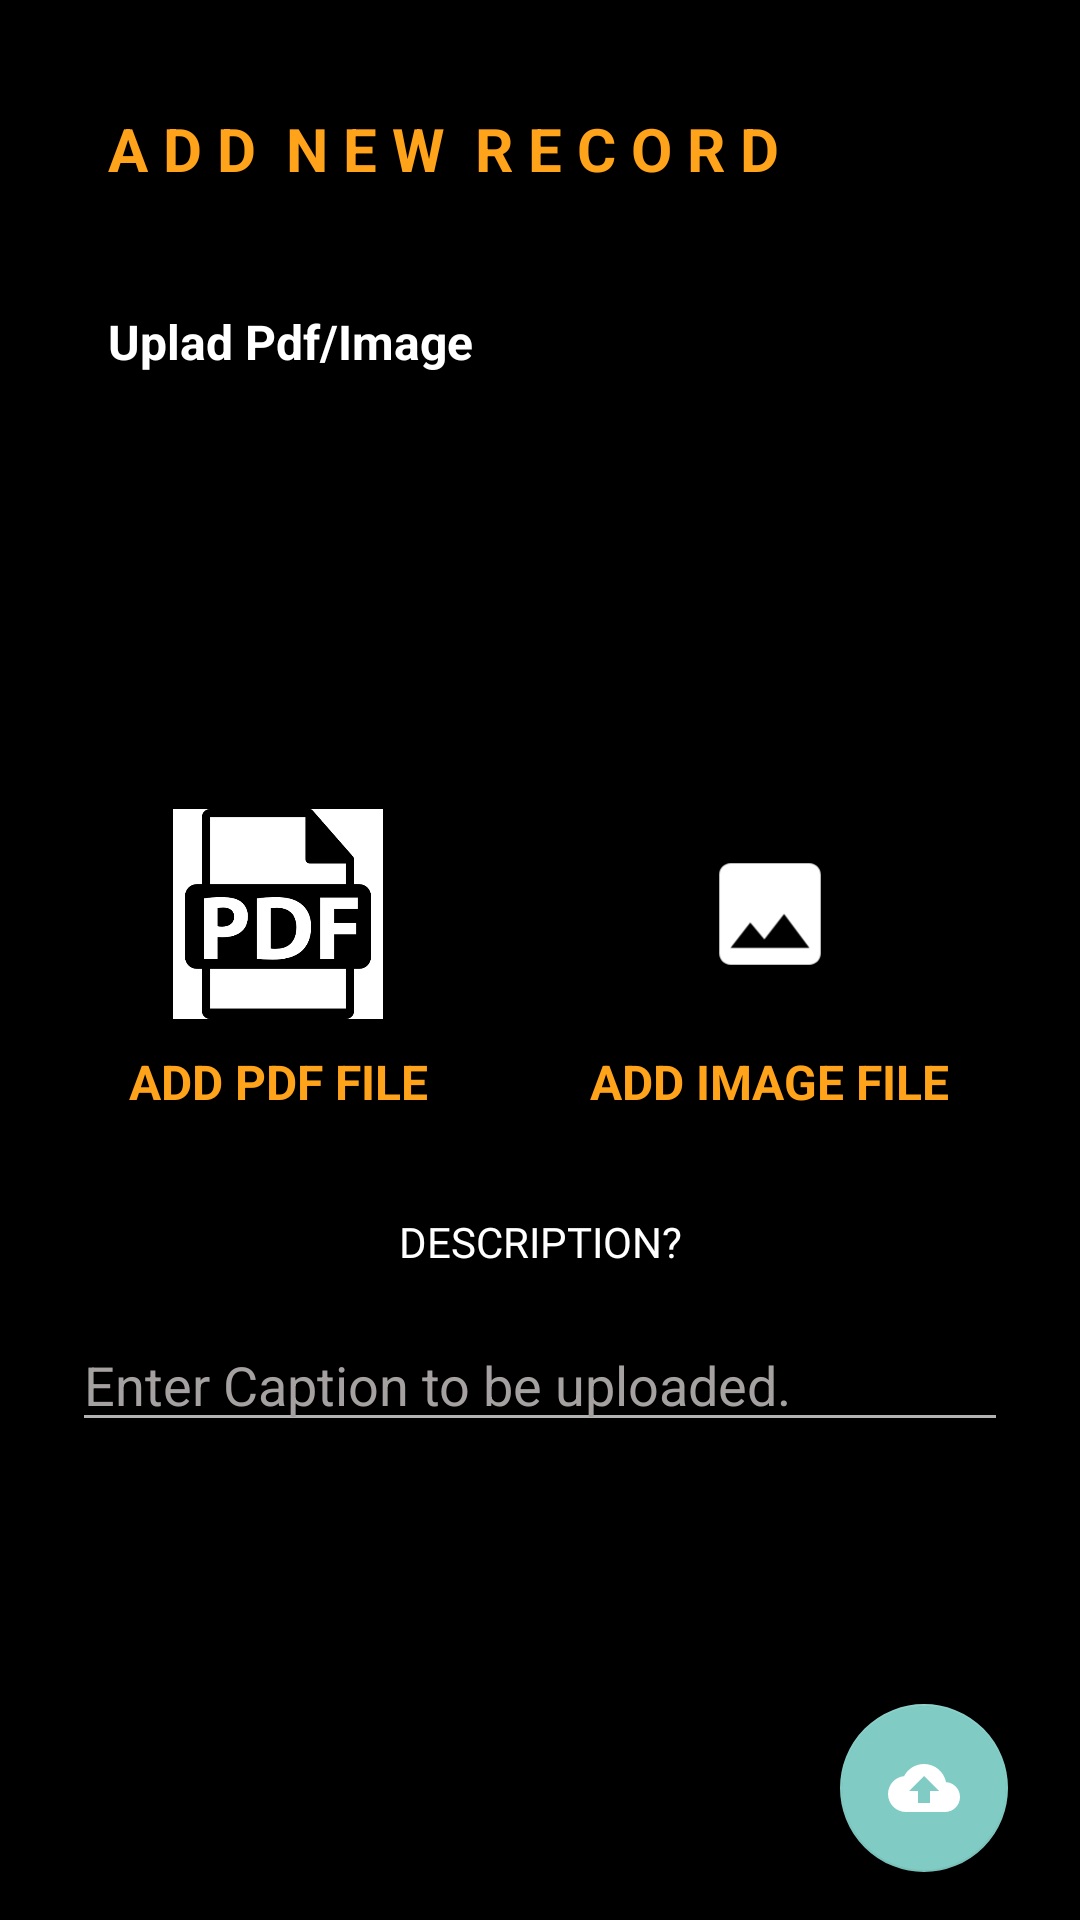

Screen size 1080px×1920px. Icon name, then its center in pixels as (x=x, y=y):
cloud upload: (x=924, y=1788)
